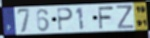1: (75, 7, 85, 31)
6: (36, 8, 50, 33)
7: (17, 8, 32, 34)
F: (97, 5, 115, 30)
P: (56, 7, 75, 32)
Z: (115, 5, 135, 30)
